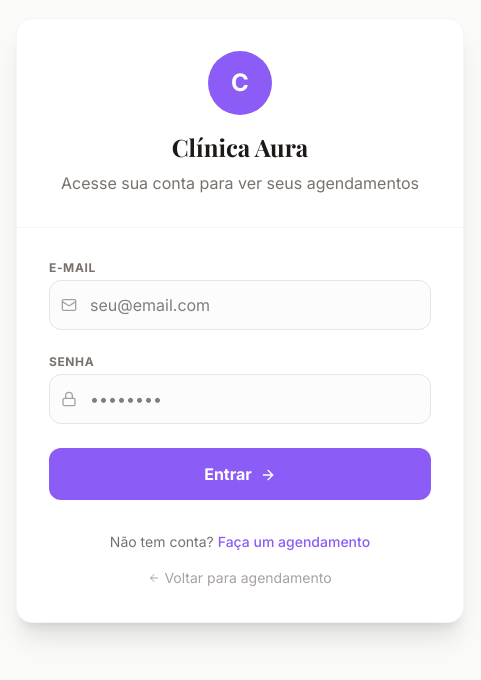
pages/patient-portal/PatientLogin › exceção lançada por login() exibe mensagem de erro genérica
Type "maria@example.com" into the field with placeholder "seu@email.com" at (240, 304), box x1=49 y1=280 x2=431 y2=330
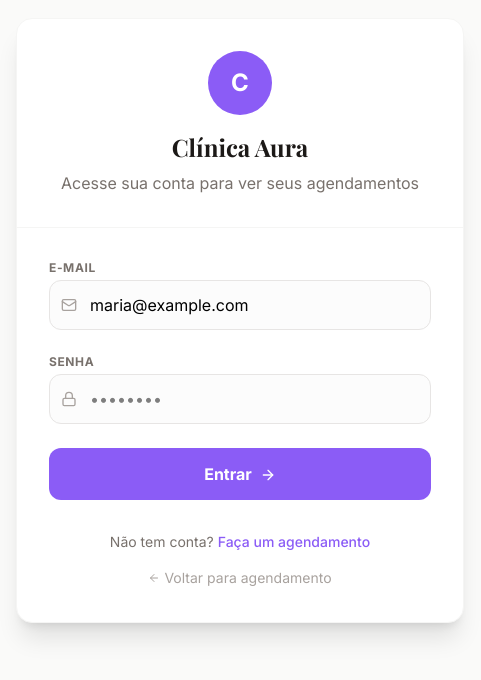
Type "senha123" into the password field with placeholder "••••••••" at (240, 398), box x1=49 y1=374 x2=431 y2=424
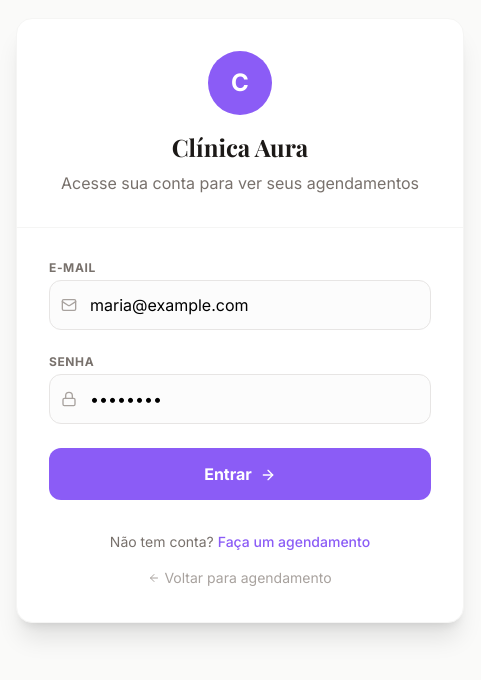
Click the button "Entrar" at (240, 474), box x1=49 y1=448 x2=431 y2=500
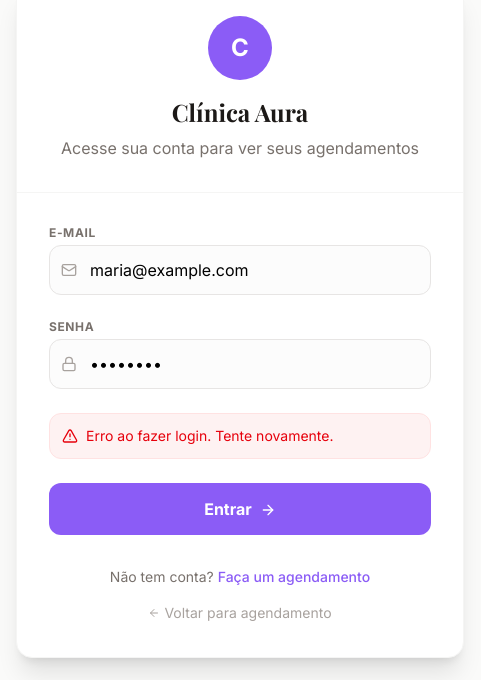
Expected: the text "Erro ao fazer login. Tente novamente." is shown, x1=49 y1=412 x2=431 y2=458
